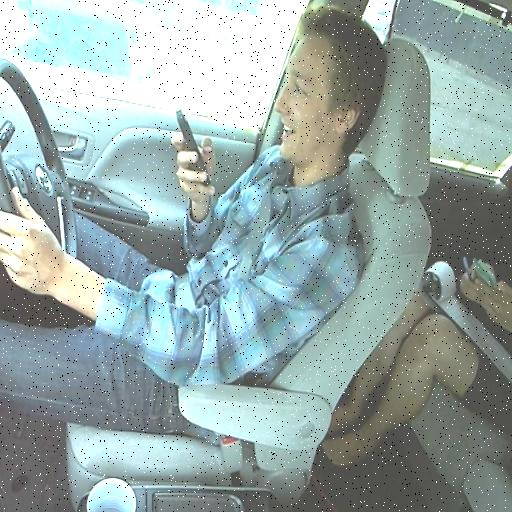texting_phone: (0, 11, 384, 387)
